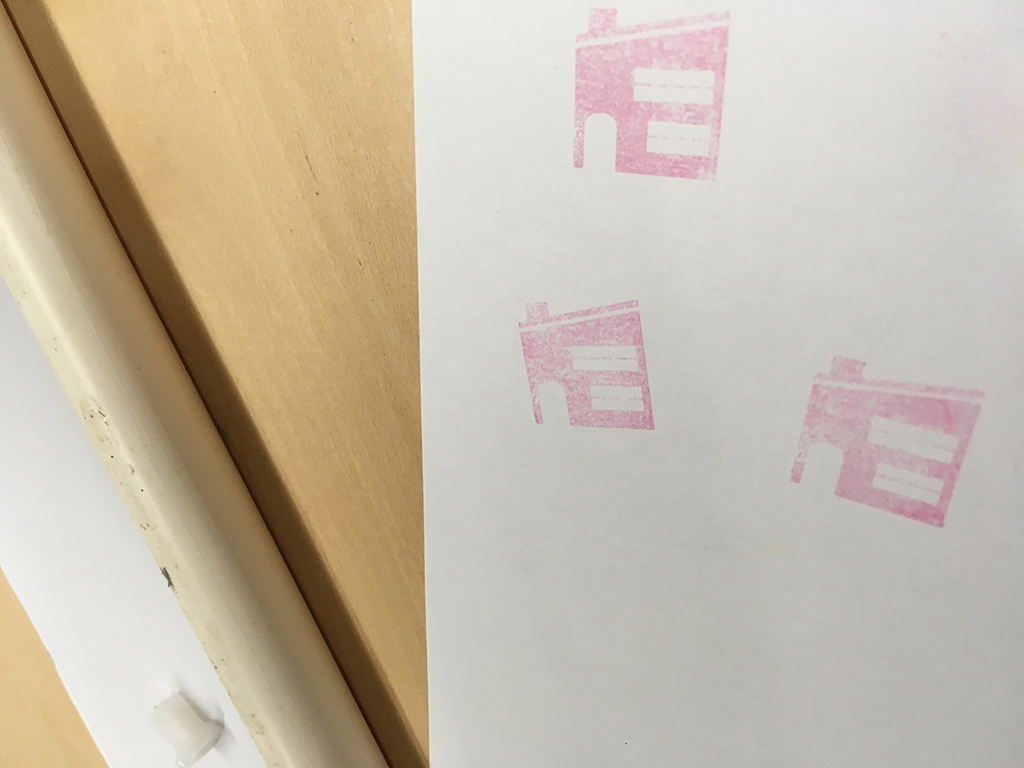house: (773, 346, 996, 546), (550, 2, 744, 198), (504, 286, 671, 445)
